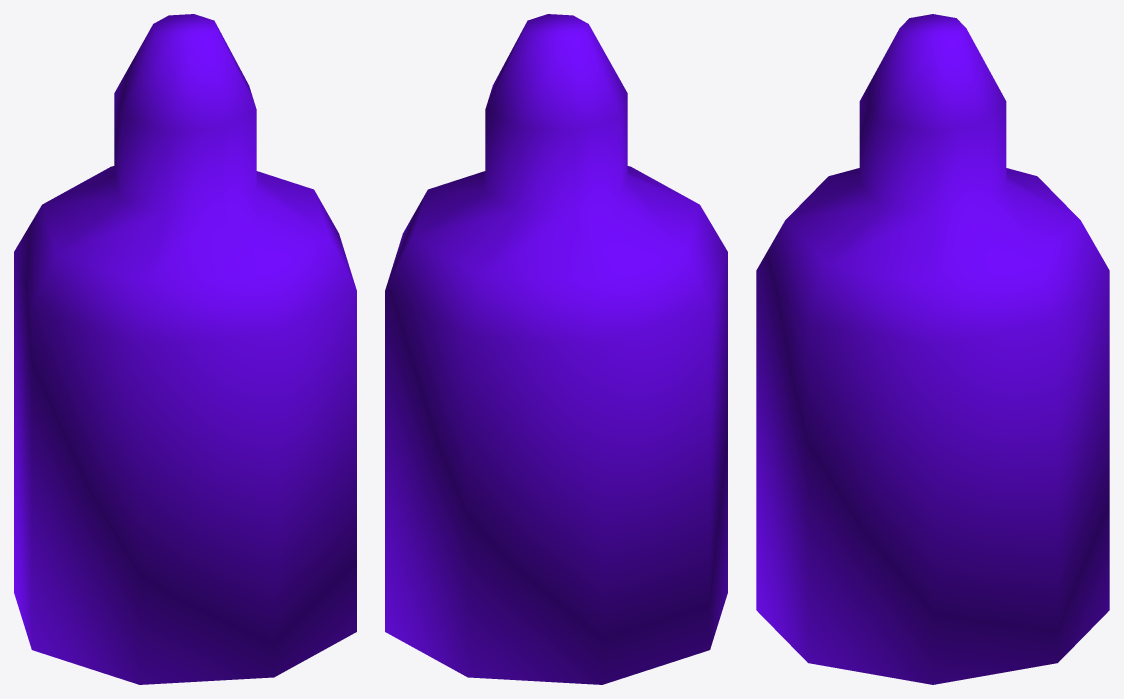
Rendered from hospital_staff_handSanitizer_1_meshCollider.fbx.
3 views of the same model, side by side, from view 1: azimuth 30°, elevation 25°; view 2: azimuth 150°, elevation 25°; view 3: azimuth 270°, elevation 25° (orthographic).
Parts seen in each view (by area): view 1: hospital_staff_handSanitizer_1_meshCollider; view 2: hospital_staff_handSanitizer_1_meshCollider; view 3: hospital_staff_handSanitizer_1_meshCollider.
Part boxes in pixels (left/top/right/bottom): hospital_staff_handSanitizer_1_meshCollider: left=14, top=14, right=356, bottom=684; hospital_staff_handSanitizer_1_meshCollider: left=385, top=14, right=727, bottom=684; hospital_staff_handSanitizer_1_meshCollider: left=756, top=14, right=1109, bottom=684.
Bounding box in the file's own units: 8.04 × 14.62 × 8.04.
